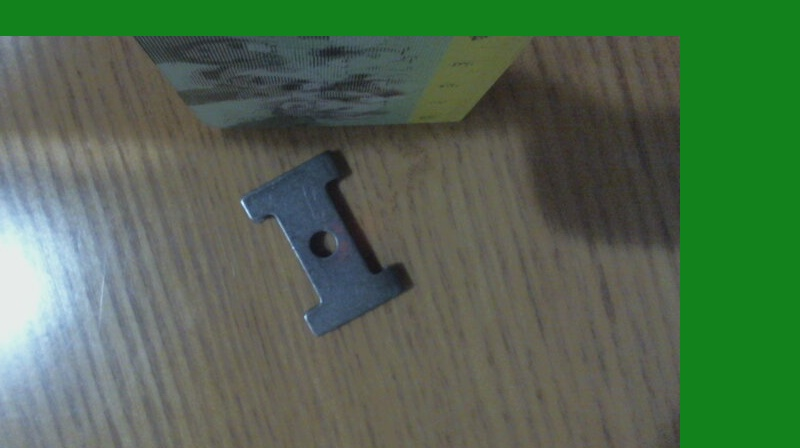O002: (237, 148, 410, 338)
